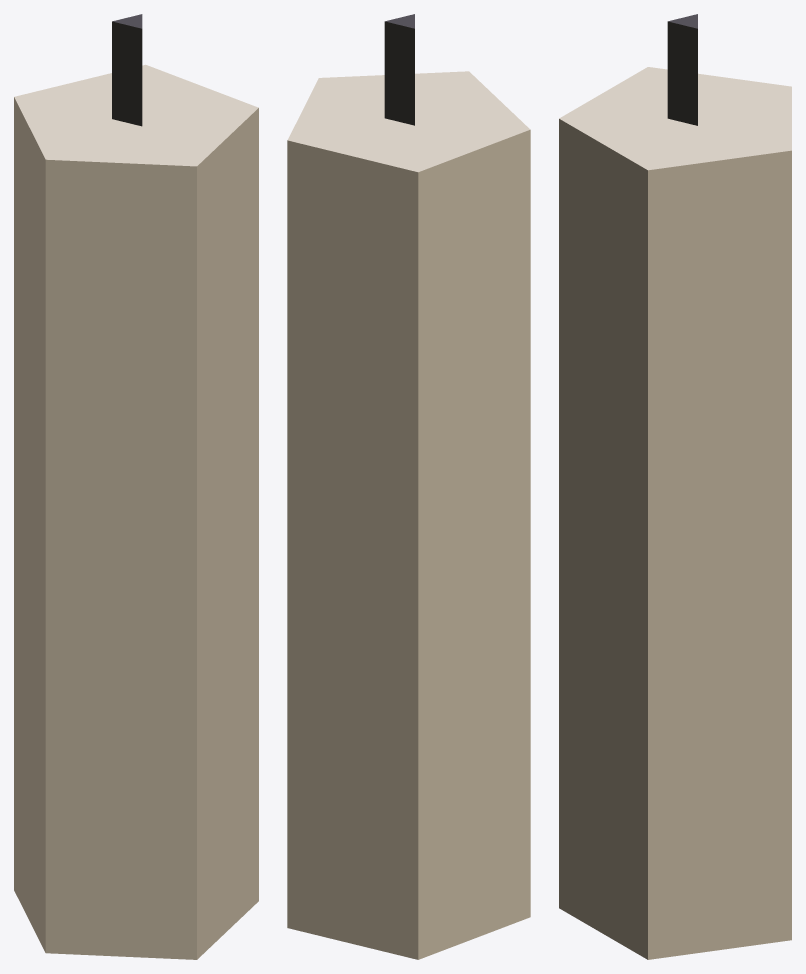
The model's file is TB_D_Prop_Candle_A.FBX.
3 views of the same model, side by side, from view 1: azimuth 30°, elevation 25°; view 2: azimuth 150°, elevation 25°; view 3: azimuth 270°, elevation 25° (orthographic).
Parts seen in each view (by area): view 1: TB_D_Prop_Candle_A; view 2: TB_D_Prop_Candle_A; view 3: TB_D_Prop_Candle_A.
Boxes of the visible parts, x1=… form: TB_D_Prop_Candle_A: x1=14, y1=14, x2=258, y2=959; TB_D_Prop_Candle_A: x1=287, y1=14, x2=530, y2=959; TB_D_Prop_Candle_A: x1=559, y1=14, x2=791, y2=959.
Size of the model in its own units: 0.1805 by 0.7211 by 0.1717.
